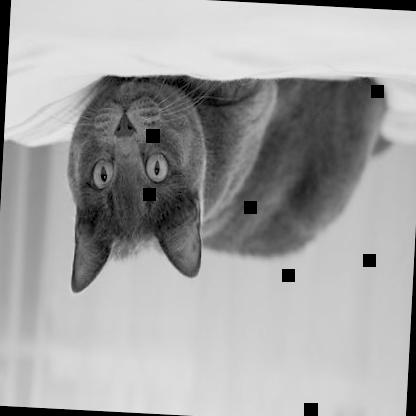cat: (59, 60, 388, 310)
